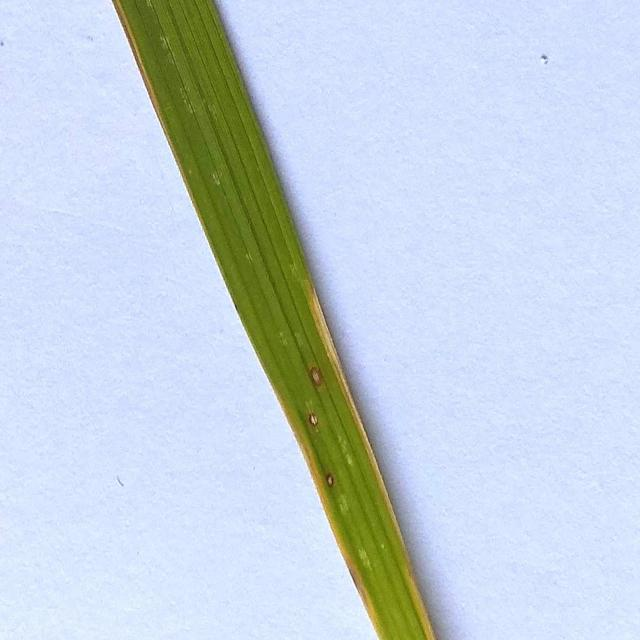Leaf blast: (1, 0, 438, 640)
